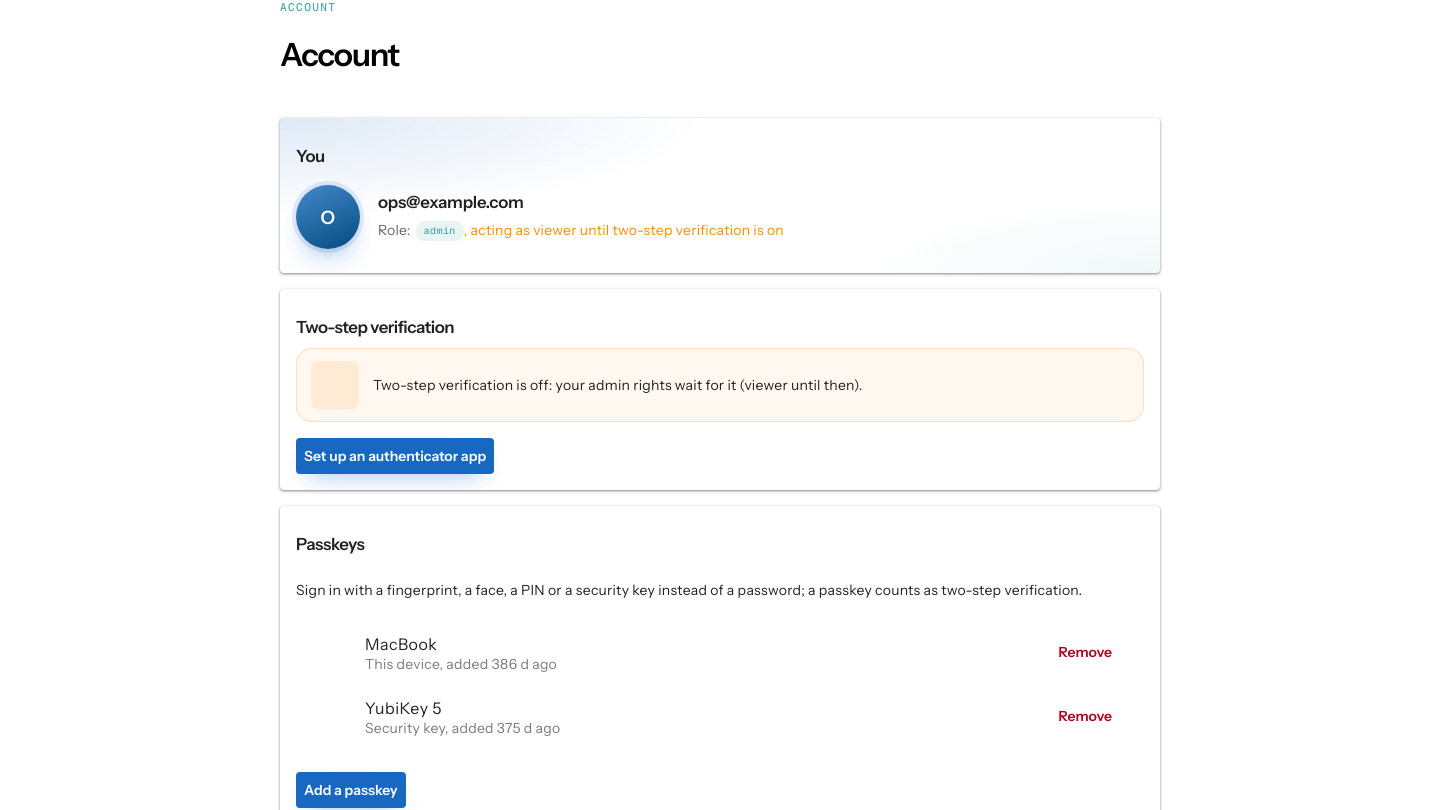
Test case: Account, passkeys › removes a passkey after confirmation
Click the button "Remove" in the row of "This device, added 386 d ago": (1085, 652) [1042,634,1128,670]
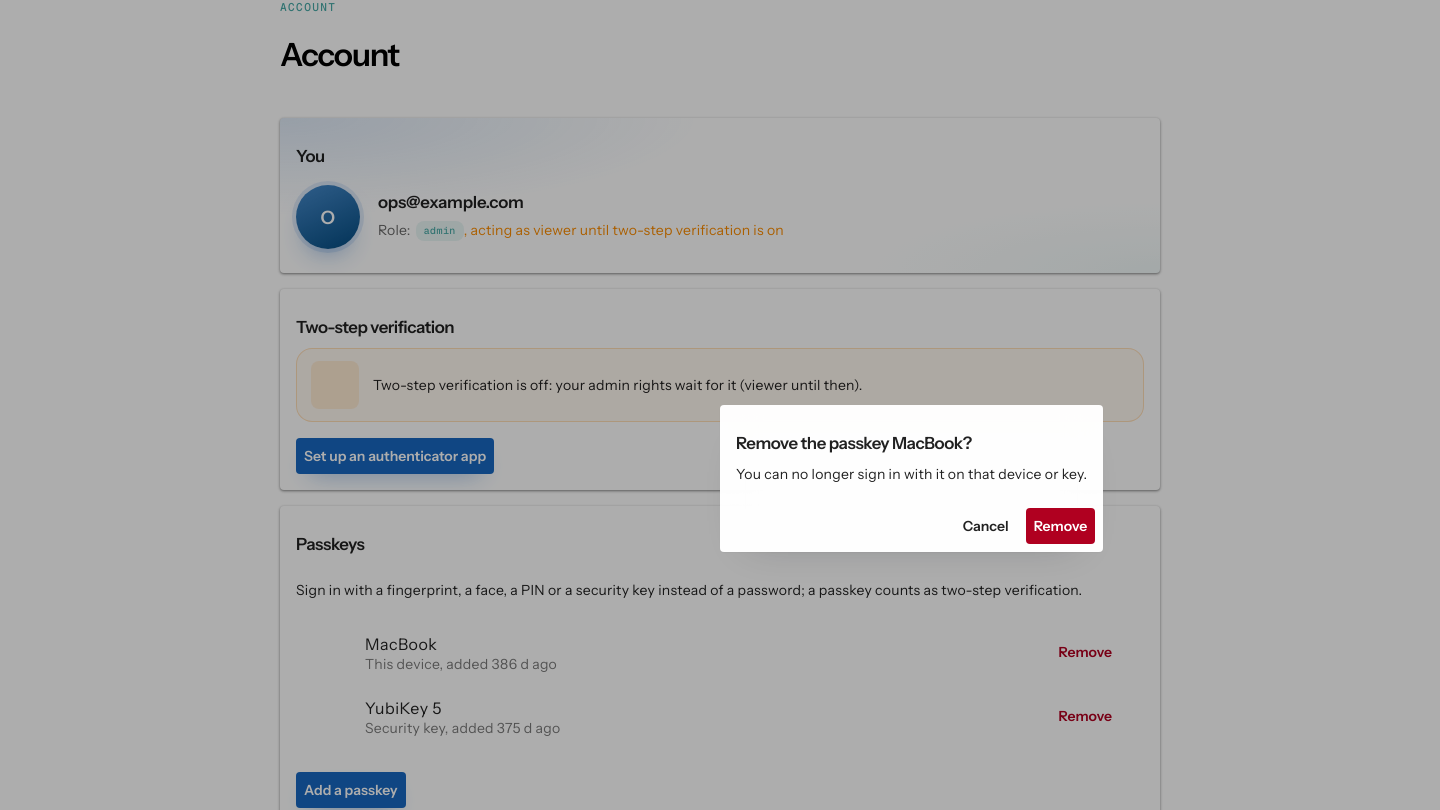
Check: the text "Remove the passkey MacBook?" is shown, box [736,433,972,453]
Click the button "Remove": (1060, 526) [1026,508,1095,544]
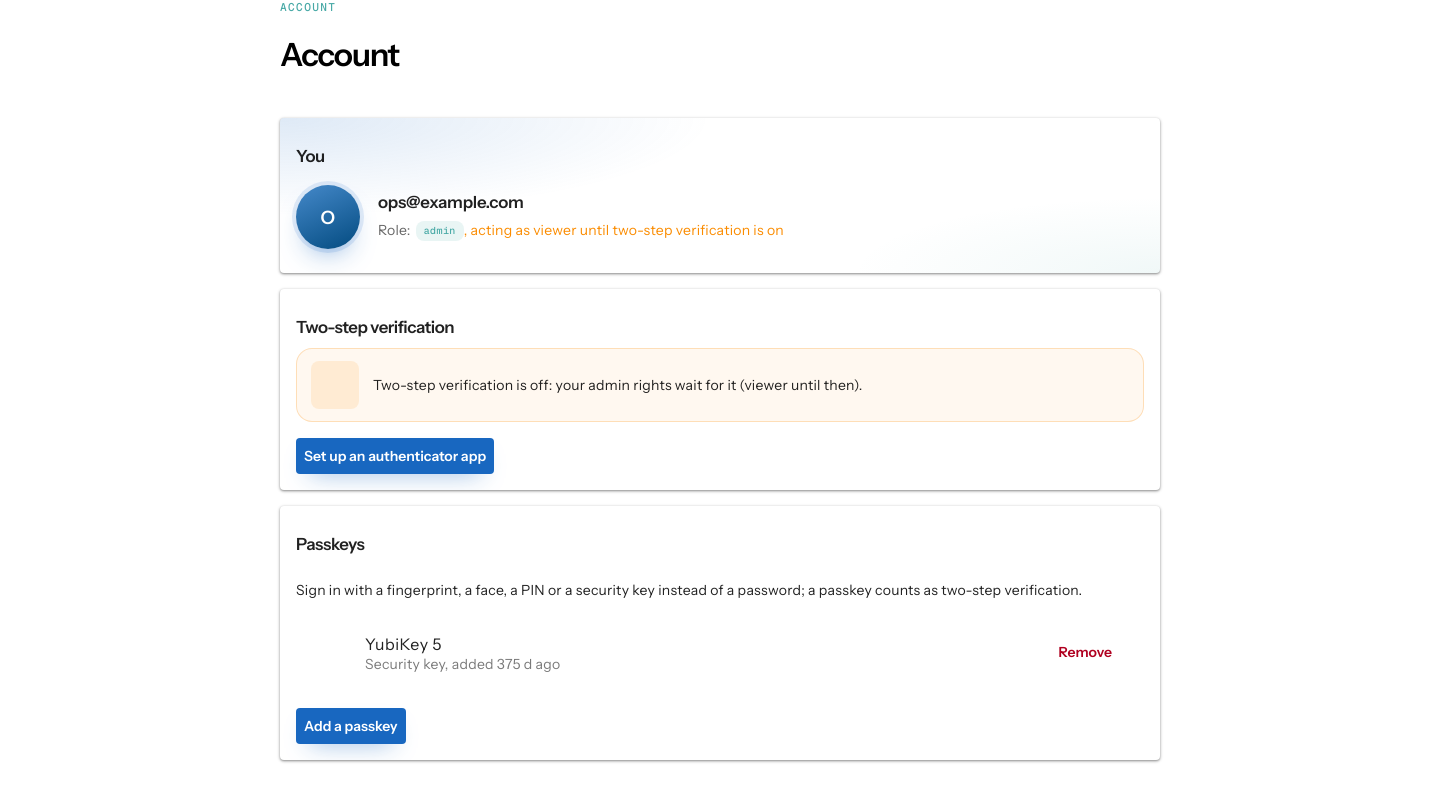
Check: the text "YubiKey 5" is shown, box [365,634,442,654]
Check: the text "MacBook" is gone
